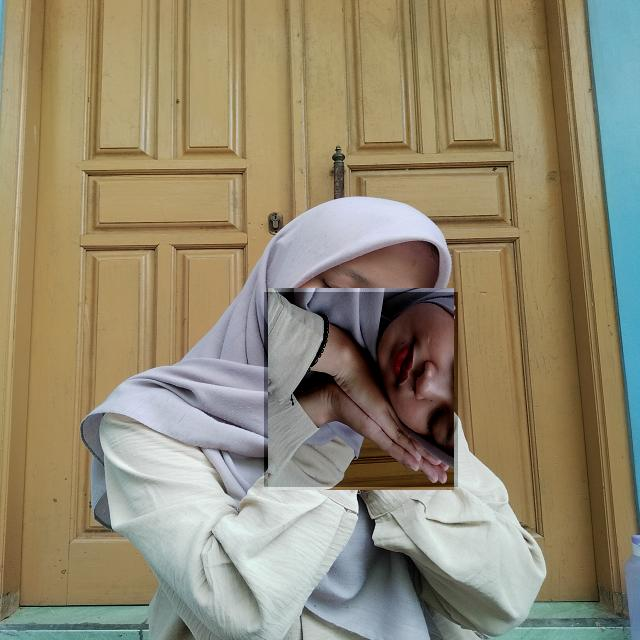tidur: (264, 292, 458, 487)
